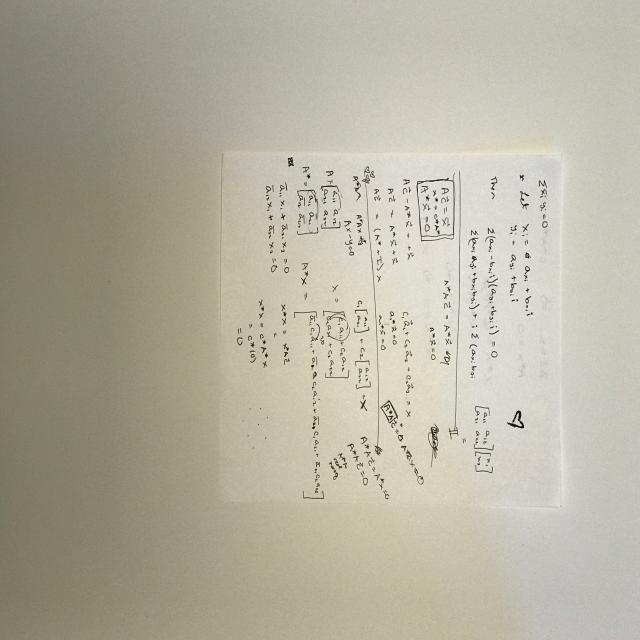paper: (204, 102, 595, 541)
